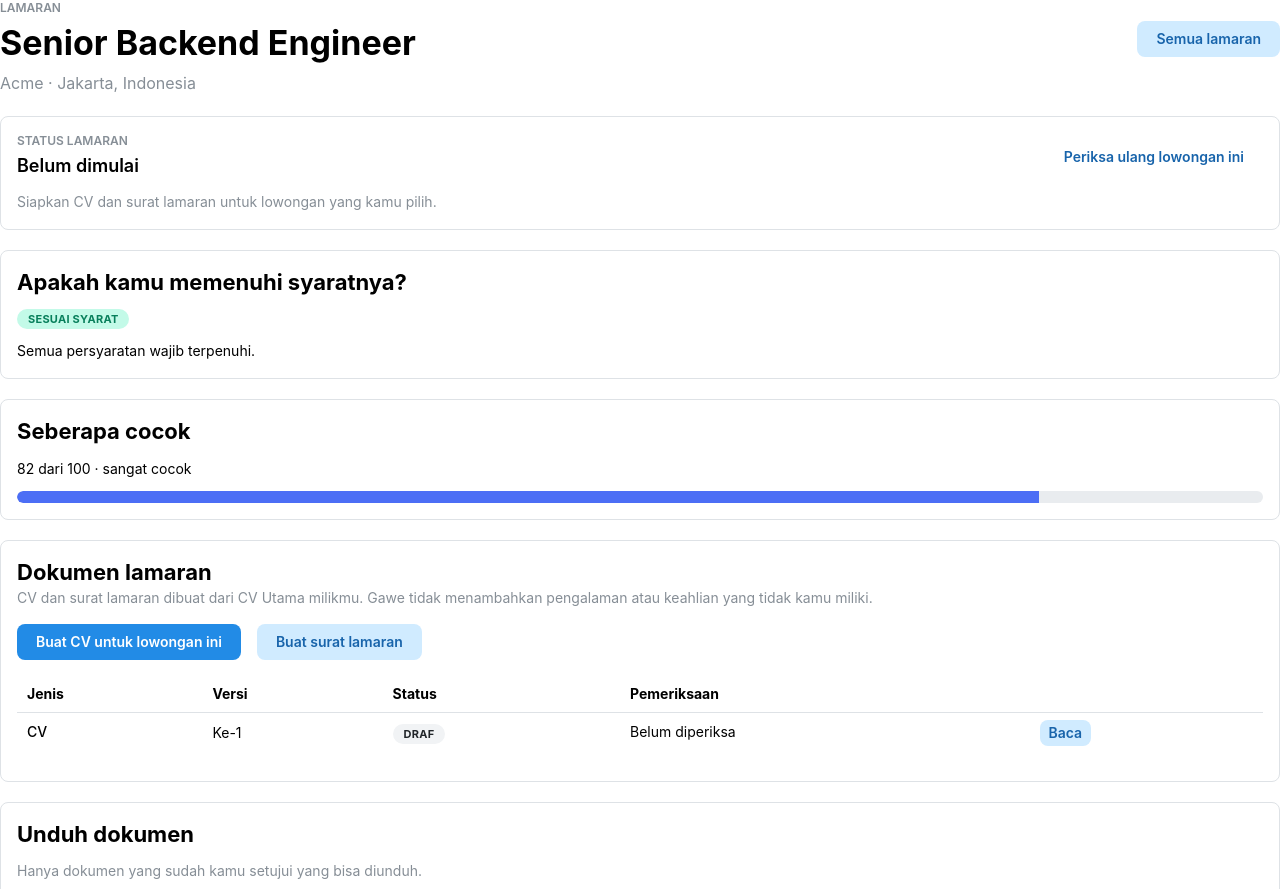
Test: ApplicationWorkspacePage › marks information that the profile does not provide
The image size is (1280, 889).
Click the button "Baca".
click(1065, 733)  # box [1040,720,1091,746]
(page scrolled)
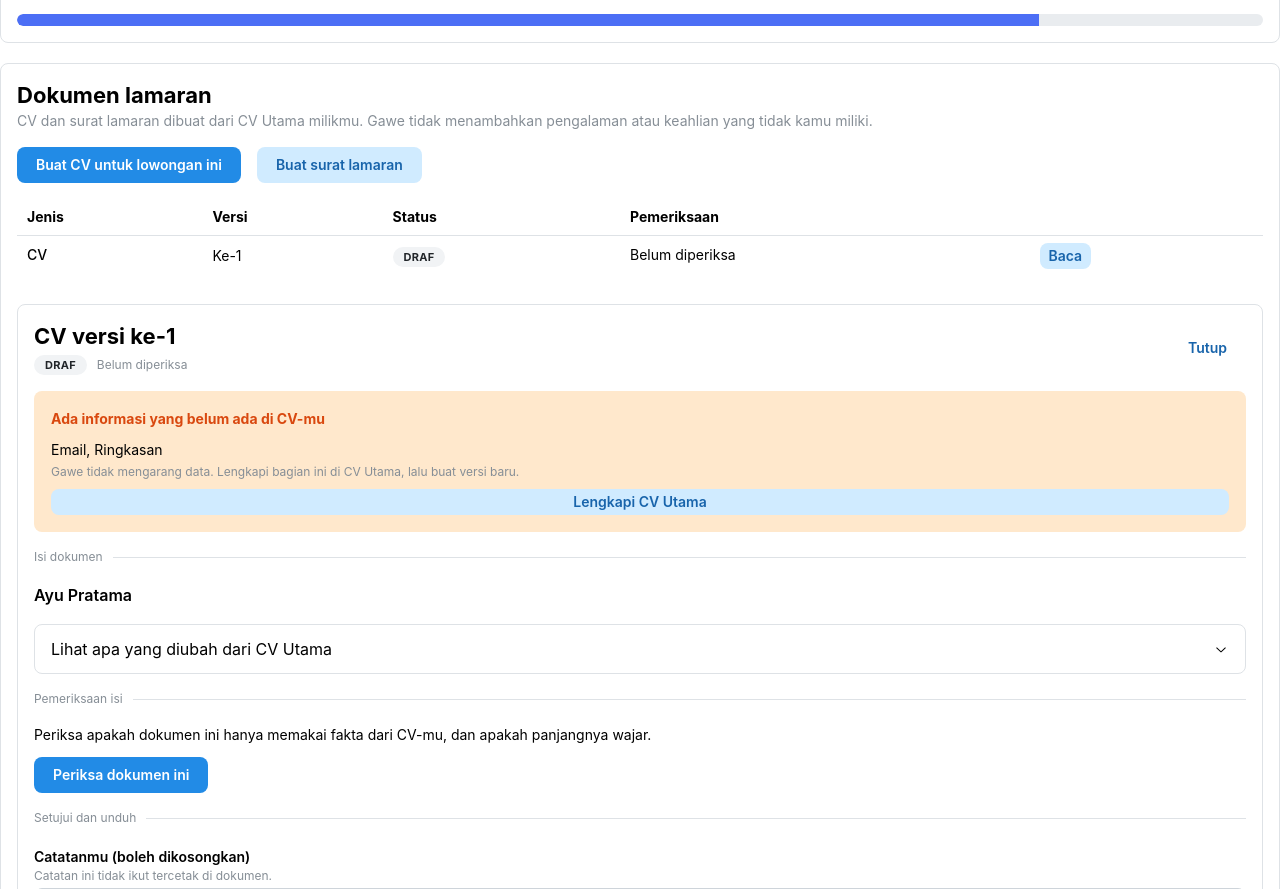
Check: the text "Ada informasi yang belum ada di CV-mu" is shown, box [51,408,325,430]
Check: the text "Email, Ringkasan" is shown, box [51,441,163,458]
